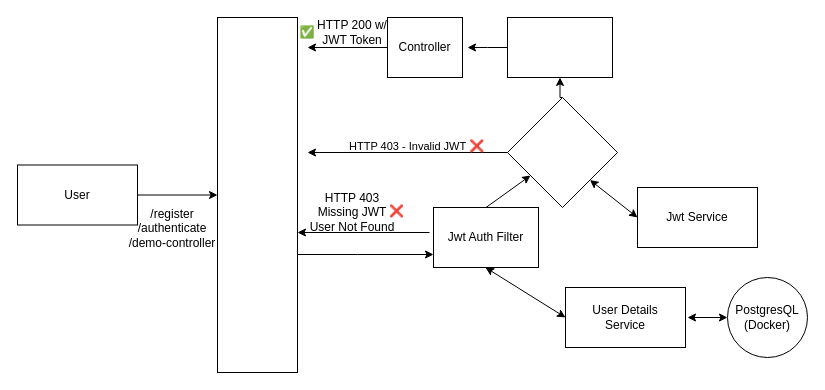
The diagram is 825 pixels wide and 390 high, and some of its shapes have lost their labels. The shapes that lost their labels are listed below. From the top down, each one's box as (x1, y1, x2, y2) in pixels, then its label:
(506, 16, 612, 78): Security Context Holder
(506, 96, 618, 208): Validate Jwt
(216, 16, 298, 372): API Gateway
